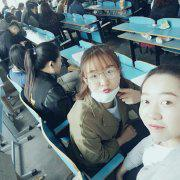NONE: (141, 89, 180, 142)
WRONG: (84, 64, 122, 102)
